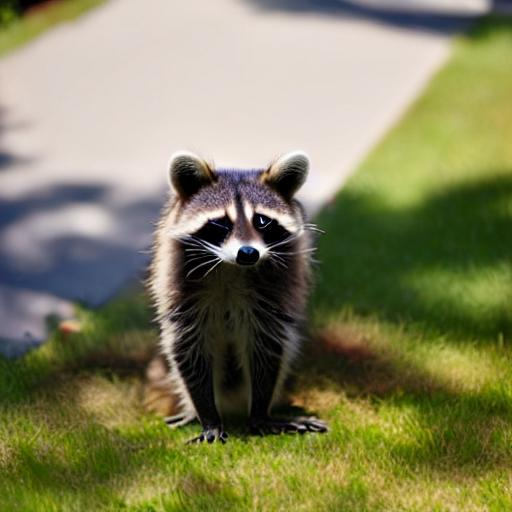raccoon: (142, 146, 328, 412)
